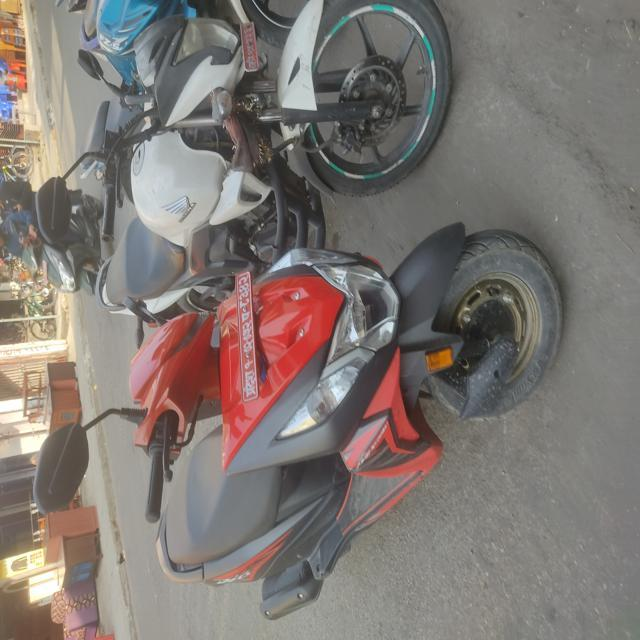license_plate: (220, 212, 284, 424)
